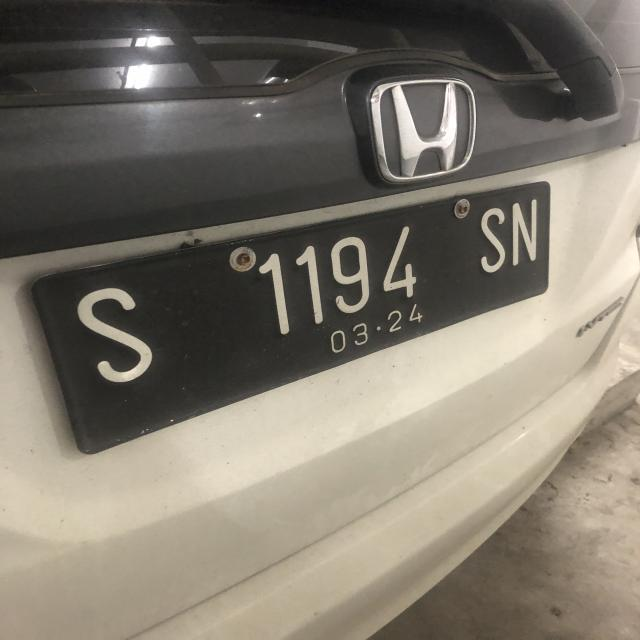1: (257, 242, 294, 336), (291, 238, 328, 327)
4: (382, 224, 419, 306)
9: (326, 236, 375, 316)
N: (510, 195, 540, 269)
S: (77, 282, 154, 389), (472, 198, 510, 277)
